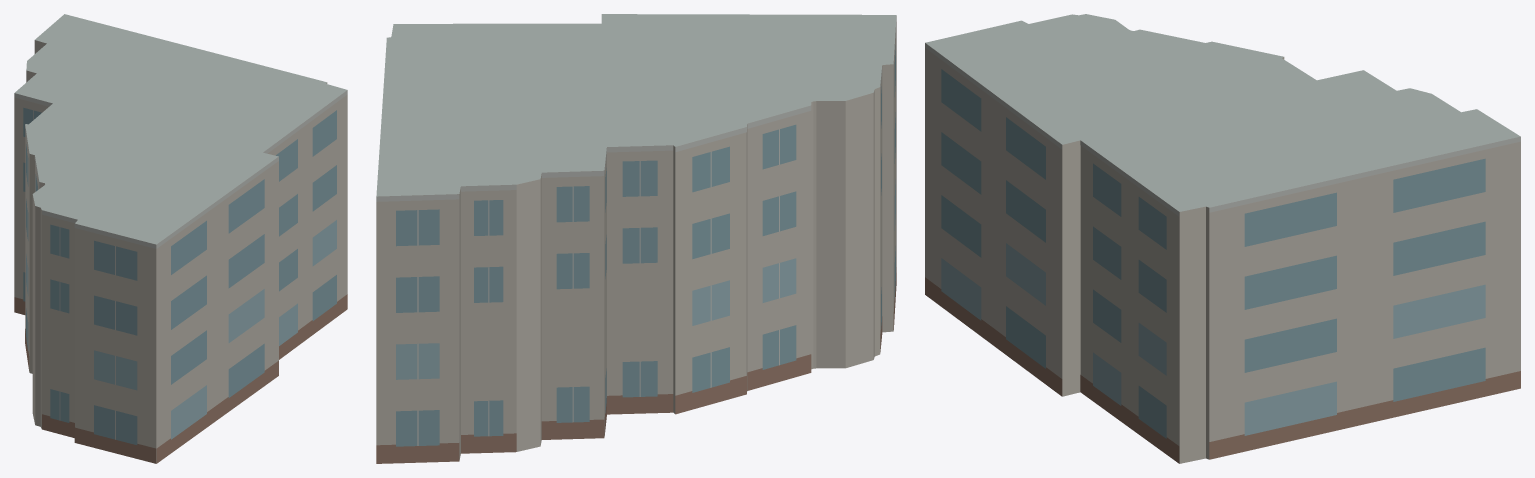
The model's file is survey-upis-32834286.glb.
3 views of the same model, side by side, from view 1: azimuth 30°, elevation 25°; view 2: azimuth 150°, elevation 25°; view 3: azimuth 270°, elevation 25° (orthographic). The views are drawn at different scales.
Visible parts, largest first — view 1: survey-upis-32834286.tmp; view 2: survey-upis-32834286.tmp; view 3: survey-upis-32834286.tmp.
Part boxes in pixels (x1,y1,x2,y2): survey-upis-32834286.tmp: (14, 14, 347, 463); survey-upis-32834286.tmp: (376, 14, 896, 463); survey-upis-32834286.tmp: (925, 14, 1520, 463).
Bounding box in the file's own units: 20.65 × 12.25 × 26.26.
